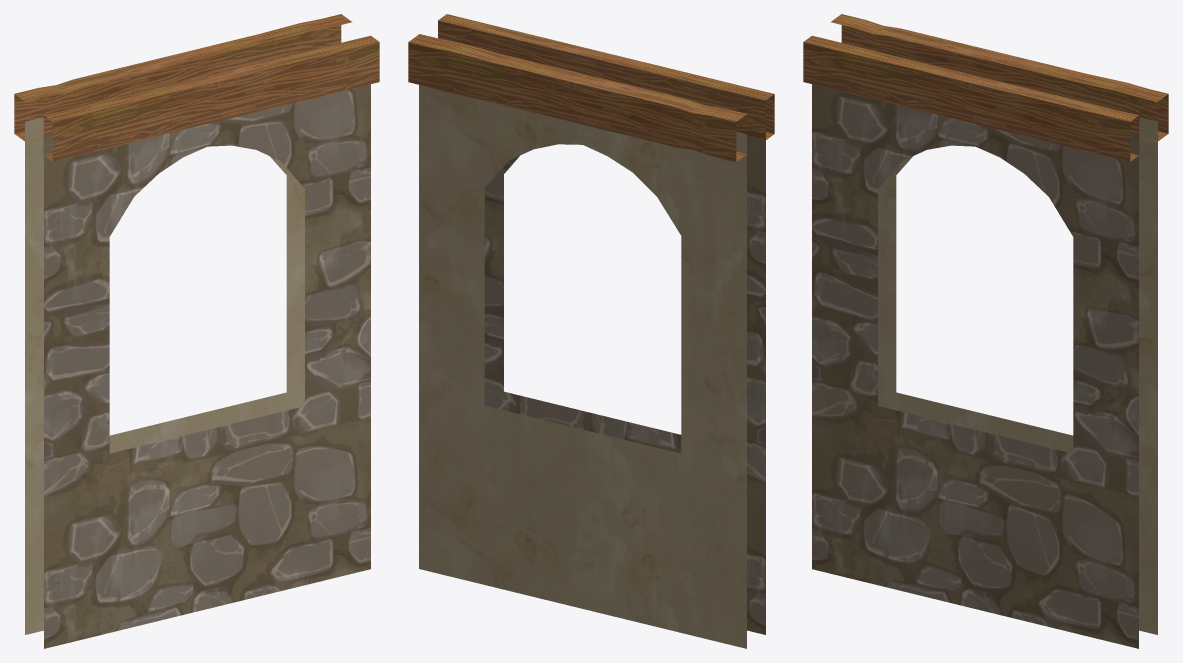
The model's file is Wall_UnevenBrick_Window_Wide_Round.glb.
3 views of the same model, side by side, from view 1: azimuth 30°, elevation 25°; view 2: azimuth 150°, elevation 25°; view 3: azimuth 330°, elevation 25° (orthographic).
Visible parts, largest first — view 1: Wall_UnevenBrick_Window_Wide_Round; view 2: Wall_UnevenBrick_Window_Wide_Round; view 3: Wall_UnevenBrick_Window_Wide_Round.
Part boxes in pixels (x1,y1,x2,y2): Wall_UnevenBrick_Window_Wide_Round: (14,14,379,648); Wall_UnevenBrick_Window_Wide_Round: (408,14,774,648); Wall_UnevenBrick_Window_Wide_Round: (803,14,1168,648).
Size of the model in its own units: 2 by 3.12 by 0.4064.
3 materials, 3 textured.
